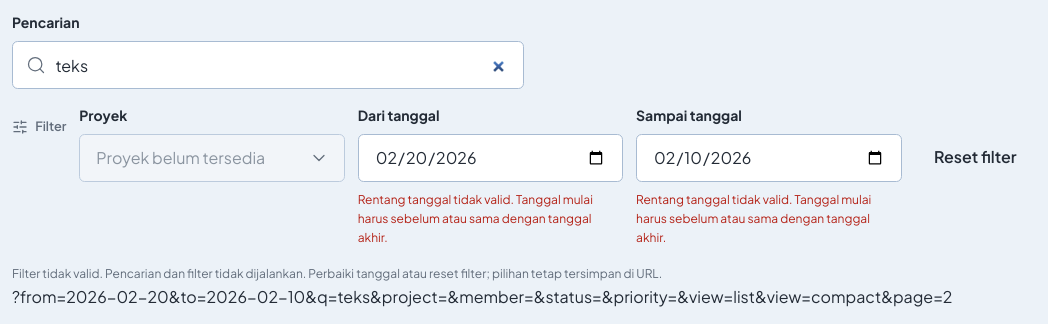
Test: Validasi lokal rentang tanggal FilterToolbar › mereset filter dan error tanpa menghapus parameter URL lain
The width and height of the screenshot is (1048, 324).
expect the 3rd message shows "Filter tidak valid. Pencarian dan filter tidak dijalankan.": met, box [12, 266, 662, 281]
Click the button "Reset filter" at [975, 157], box [914, 134, 1036, 181]
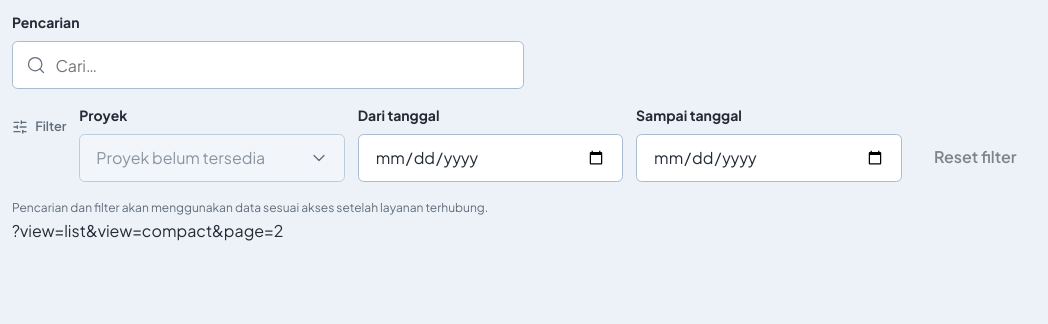
expect the message no longer shows "Filter tidak valid.": met, box [12, 200, 488, 215]
expect the date field labelled "Dari tanggal" is empty: met, box [358, 134, 623, 182]
expect the date field labelled "Sampai tanggal" is empty: met, box [636, 134, 902, 182]
